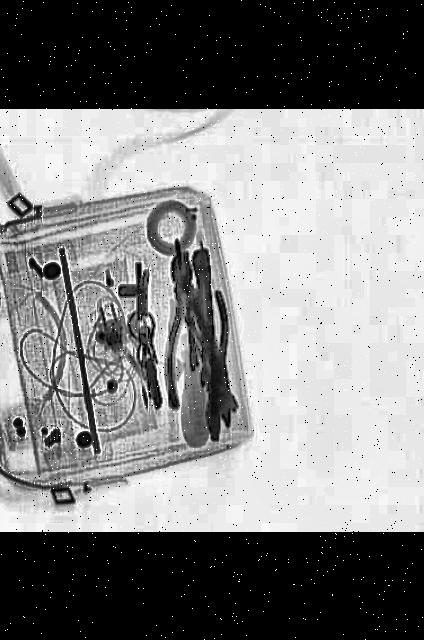Pliers: (158, 248, 212, 408), (191, 286, 249, 428)
